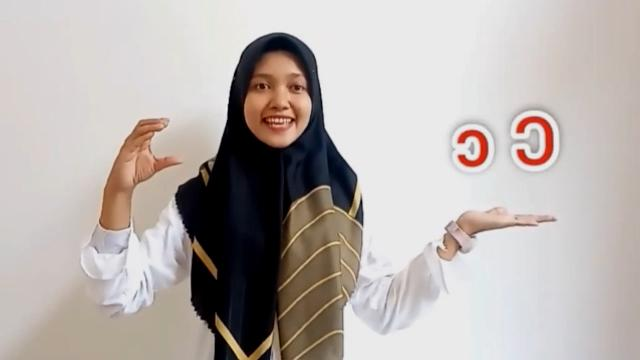C: (103, 115, 183, 189)
